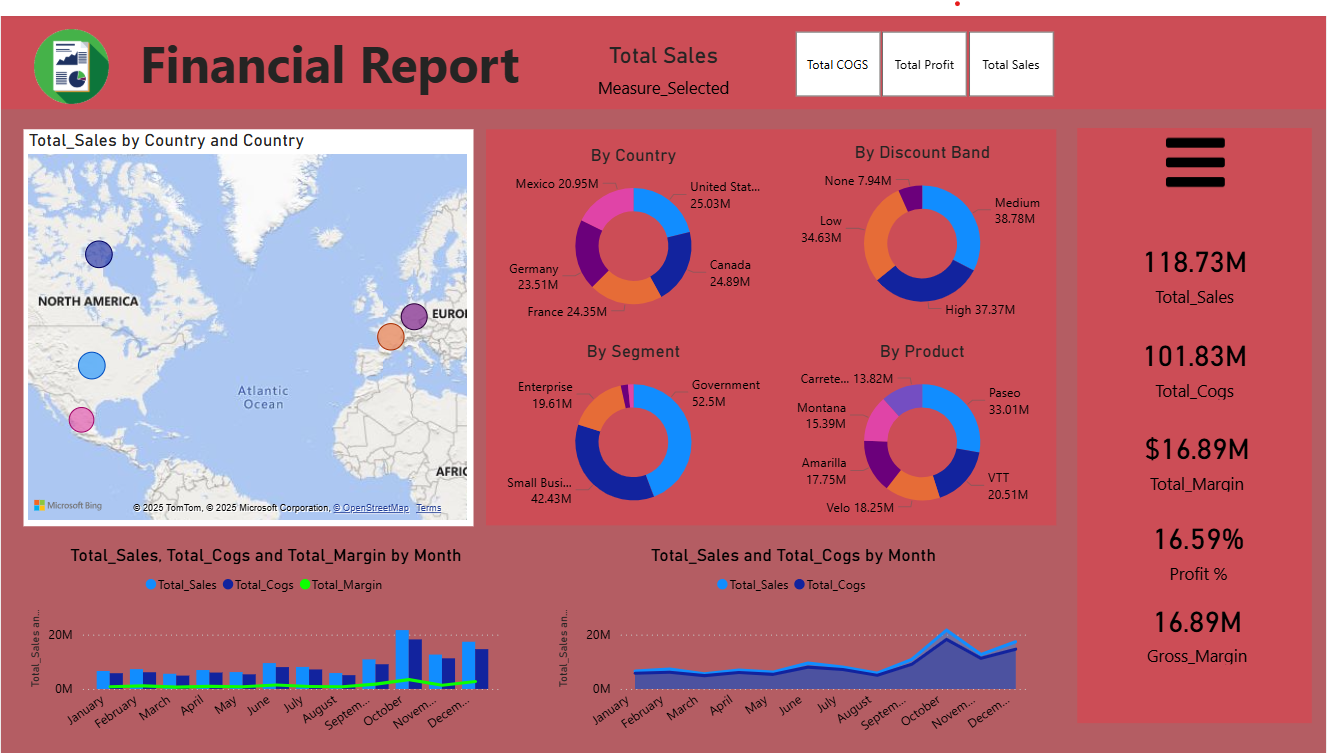

The dashboard page shown, as its layout file describes it:
{"tool":"powerbi","page":{"name":"Page 1","canvas":[1280,720],"ordinal":0},"visuals":[{"type":"shape","box":[1039.3,111.3,226.8,574.6],"z":0},{"type":"shape","box":[468.5,111.7,550.6,382.3],"z":1000},{"type":"shape","box":[0,0,1280.3,92.9],"z":2000},{"type":"textbox","box":[9.4,10.8,958.5,82.1],"z":3000},{"type":"image","box":[0,10.8,136,82.1],"z":4000},{"type":"slicer","fields":{"Values":["Metrics.Measure"]},"box":[740.4,10.8,298.9,76.7],"z":10000},{"type":"card","fields":{"Values":["All Measures.Measure_Selected"]},"box":[539.8,16.2,200.6,71.4],"z":11000},{"type":"map","fields":{"Category":["Financials.Country"],"Size":["All Measures.Total_Sales"],"Series":["Financials.Country"]},"box":[21.5,111.7,433.5,382.3],"z":12000},{"type":"donutChart","title":"By Country","fields":{"Category":["Financials.Country"],"Y":["All Measures.Measure_Logic"]},"box":[482,126.5,258.5,177.7],"z":13000},{"type":"donutChart","title":"By Discount Band","fields":{"Y":["All Measures.Measure_Logic"],"Category":["Financials.Discount Band"]},"box":[760.6,123.9,258.5,177.7],"z":14000},{"type":"donutChart","title":"By Segment","fields":{"Y":["All Measures.Measure_Logic"],"Category":["Financials.Segment"]},"box":[482,316.4,258.5,177.7],"z":15000},{"type":"donutChart","title":"By Product","fields":{"Y":["All Measures.Measure_Logic"],"Category":["Financials.Product"]},"box":[760.6,316.4,258.5,177.7],"z":16000},{"type":"lineClusteredColumnComboChart","fields":{"Y":["All Measures.Total_Sales","All Measures.Total_Cogs"],"Y2":["All Measures.Total_Margin"],"Category":["Financials.Date.Variation.Date Hierarchy.Month"]},"box":[22.9,512.9,465.8,193.9],"z":17000},{"type":"areaChart","fields":{"Category":["Financials.Date.Variation.Date Hierarchy.Month"],"Y":["All Measures.Total_Sales","All Measures.Total_Cogs"]},"box":[531.8,512.9,465.8,193.9],"z":18000},{"type":"card","fields":{"Values":["All Measures.Total_Sales"]},"box":[1039.3,212.9,226.8,75.1],"z":19000},{"type":"card","fields":{"Values":["All Measures.Total_Cogs"]},"box":[1039.3,303.3,226.8,75.1],"z":20000},{"type":"card","fields":{"Values":["All Measures.Total_Margin"]},"box":[1040.7,393.7,226.8,73.7],"z":21000},{"type":"card","fields":{"Values":["All Measures.Profit %"]},"box":[1042.1,480,226.8,73.7],"z":22000},{"type":"card","fields":{"Values":["All Measures.Gross_Margin"]},"box":[1040.7,559.3,226.8,73.7],"z":23000},{"type":"image","box":[1120,111.3,66.8,66.8],"z":24000}]}

Visuals, with their boxes in screenshot pixels (x1, y1, x2, y2), scaled from the page's 1280x720 canvas onto the 1327x753 screenshot:
shape: BBox(1077, 116, 1313, 717)
shape: BBox(486, 117, 1057, 517)
shape: BBox(0, 0, 1326, 97)
textbox: BBox(10, 11, 1003, 97)
image: BBox(0, 11, 141, 97)
slicer - Metrics.Measure: BBox(768, 11, 1077, 92)
card - All Measures.Measure_Selected: BBox(560, 17, 768, 92)
map - Financials.Country x All Measures.Total_Sales: BBox(22, 117, 472, 517)
"By Country" donutChart: BBox(500, 132, 768, 318)
"By Discount Band" donutChart: BBox(789, 130, 1057, 315)
"By Segment" donutChart: BBox(500, 331, 768, 517)
"By Product" donutChart: BBox(789, 331, 1057, 517)
lineClusteredColumnComboChart - All Measures.Total_Sales x All Measures.Total_Cogs: BBox(24, 536, 507, 739)
areaChart - Financials.Date.Variation.Date Hierarchy.Month x All Measures.Total_Sales: BBox(551, 536, 1034, 739)
card - All Measures.Total_Sales: BBox(1077, 223, 1313, 301)
card - All Measures.Total_Cogs: BBox(1077, 317, 1313, 396)
card - All Measures.Total_Margin: BBox(1079, 412, 1314, 489)
card - All Measures.Profit %: BBox(1080, 502, 1315, 579)
card - All Measures.Gross_Margin: BBox(1079, 585, 1314, 662)
image: BBox(1161, 116, 1230, 186)
